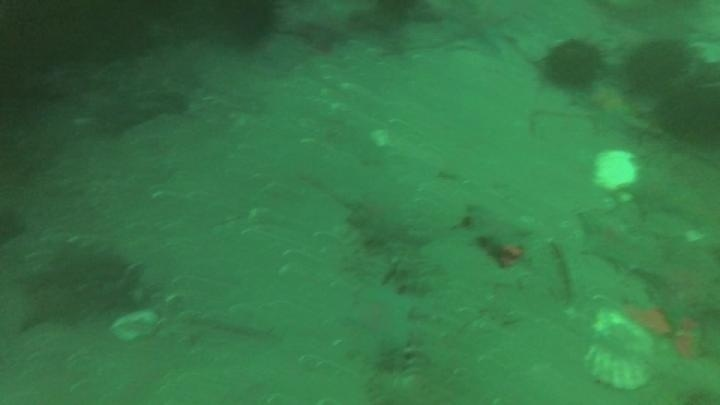echinus: (652, 74, 719, 150), (621, 36, 691, 96), (540, 36, 606, 94), (219, 1, 282, 50)
scallop: (581, 309, 656, 393)
starfish: (634, 241, 720, 324), (342, 285, 418, 360), (343, 192, 423, 249), (439, 2, 518, 57), (574, 207, 641, 269), (575, 79, 640, 137)
